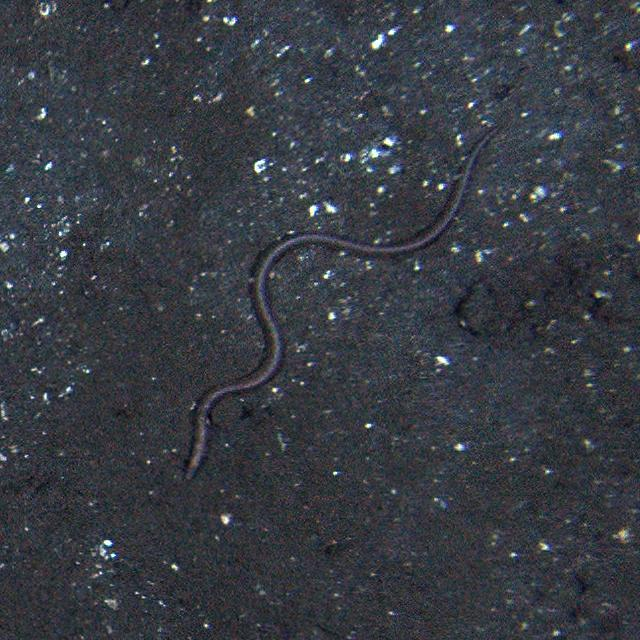eel: (185, 124, 504, 485)
